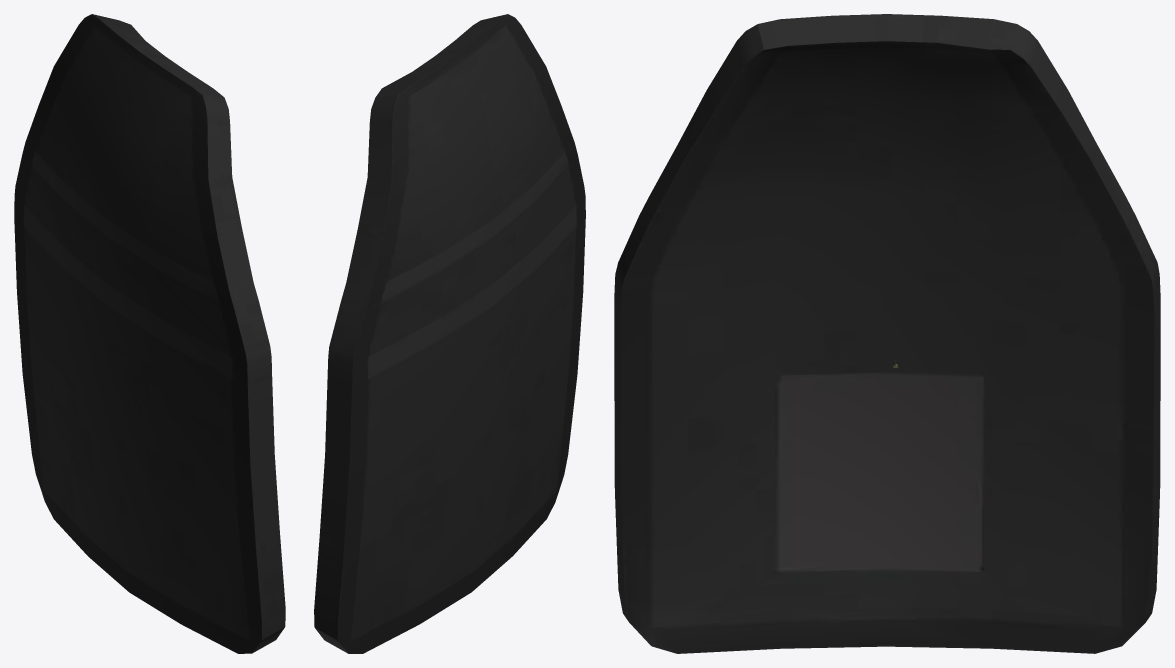
File: gear.glb
3 renders of one model, left to right at view 1: azimuth 30°, elevation 25°; view 2: azimuth 150°, elevation 25°; view 3: azimuth 270°, elevation 25°, orthographic. The views are drawn at different scales.
Parts seen in each view (by area): view 1: Plane; view 2: Plane; view 3: Plane.
Boxes of the visible parts, <box> form: Plane: <box>14,14,285,653</box>; Plane: <box>314,14,585,653</box>; Plane: <box>614,14,1160,653</box>.
Size of the model in its own units: 3053 by 23442 by 18454.
36 materials, 28 textured.
